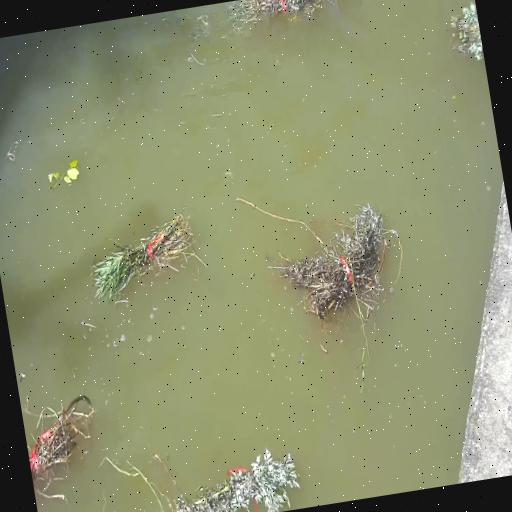twig: (278, 189, 404, 348), (144, 436, 309, 512), (84, 217, 204, 312), (20, 391, 101, 501), (211, 0, 343, 29), (36, 146, 88, 208), (440, 0, 484, 65)
